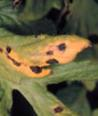Tomato leaf bacterial spot: (0, 26, 98, 116)
